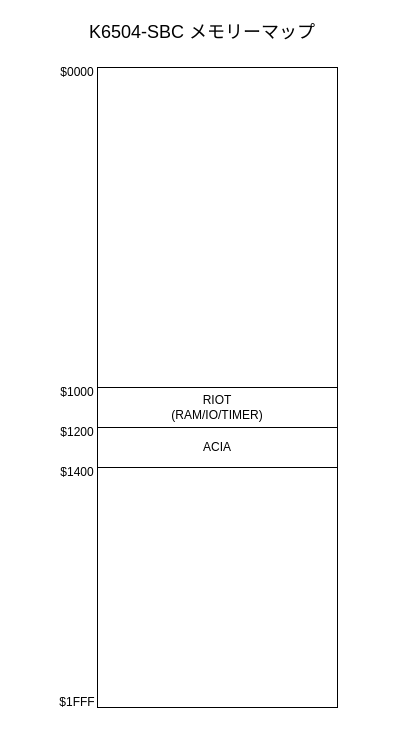
Some shapes in this 404 by 734 pixel diagram are drawn without their labels. The centre of each missing label's shape, as x and y in pixels:
"RAM (4kB)" goes at (217,227).
"ROM unimon (3kB)" goes at (217,587).
